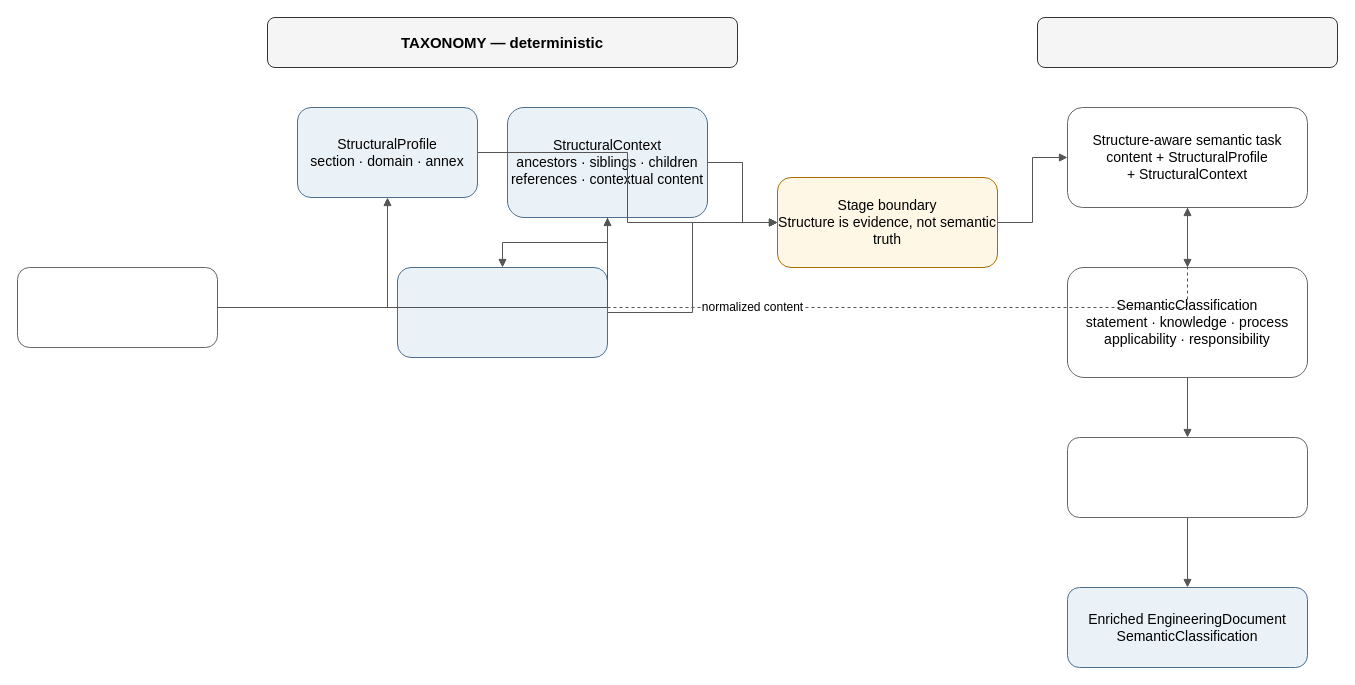
The diagram is 1355 pixels wide and 685 high, and some of its shapes have lost their labels. Each missing label, with the centre of its shape:
EngineeringDocument Clause hierarchy + content: pixel 117 307
ONTOLOGY — qualified model: pixel 1187 42
OntologyEngine validation configured dimensions + declared values: pixel 1187 477
Structural scope reach mentions + resolved/deferred edges: pixel 502 312
